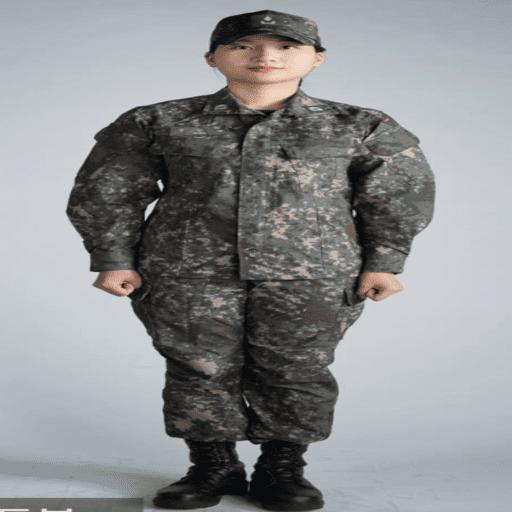korea army: (65, 9, 436, 509)
